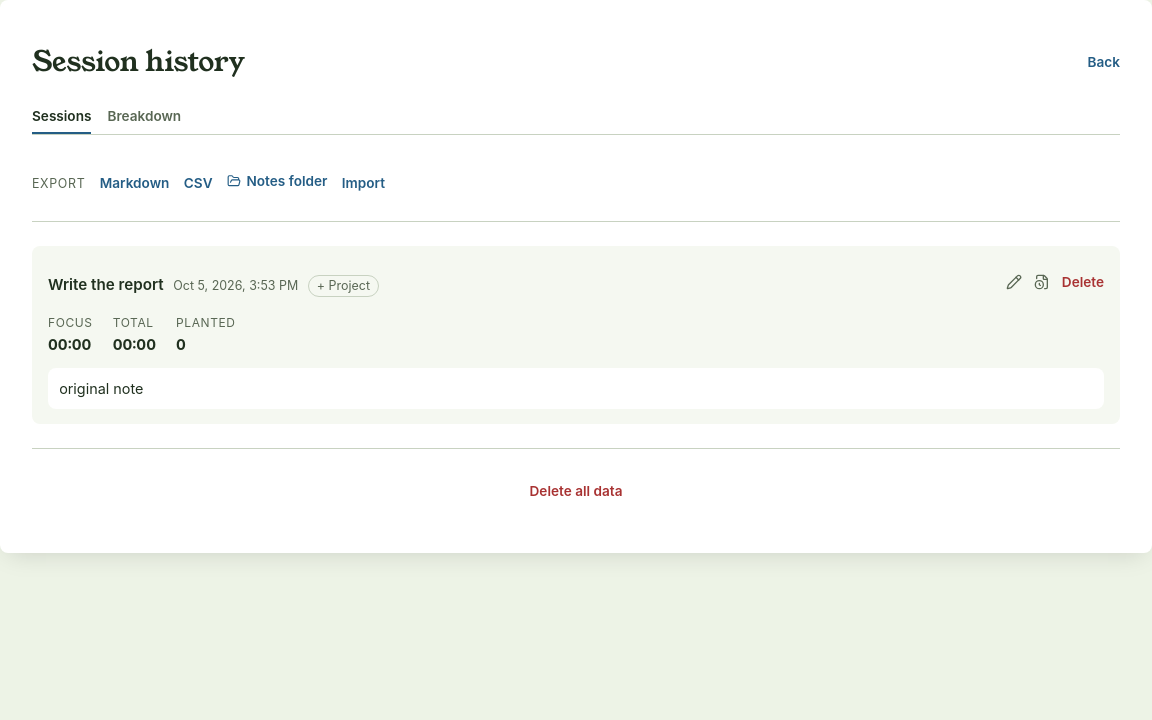
Test: History note editing › opens an editable textarea prefilled with the current note
Click the button named "Edit note". click: {"x": 1014, "y": 282}
box: x1=1006 y1=274 x2=1022 y2=290
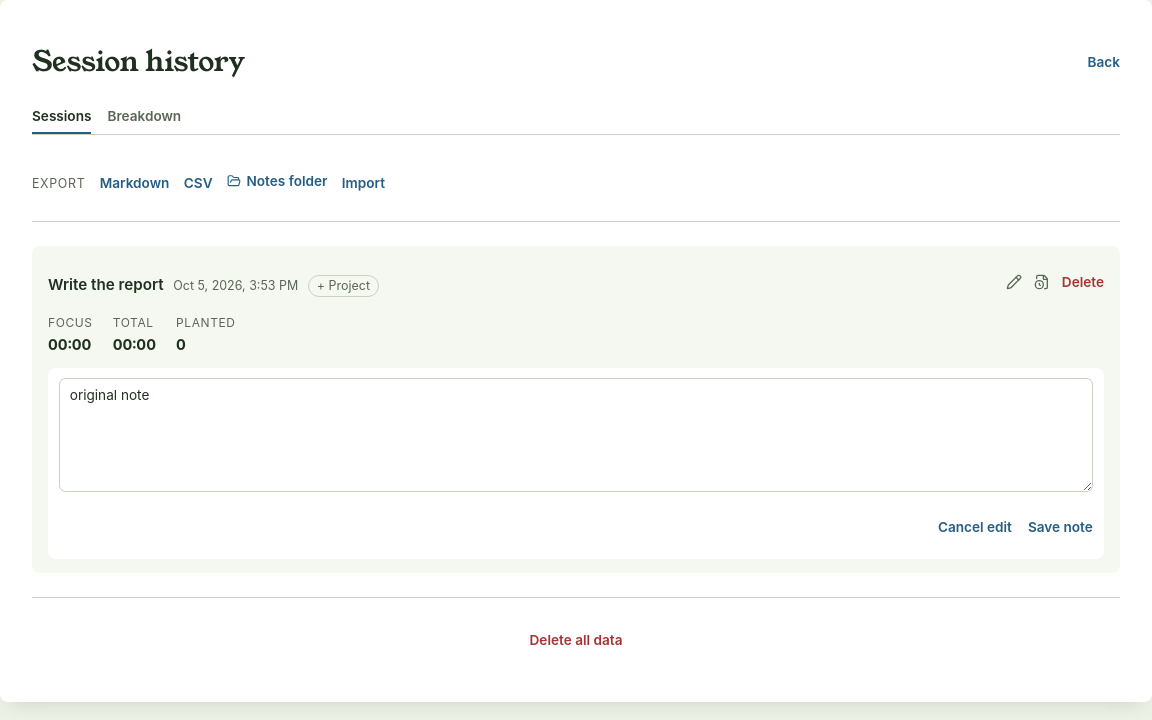
Check: the text box named "Edit note" holds "original note", box x1=59 y1=378 x2=1093 y2=492
